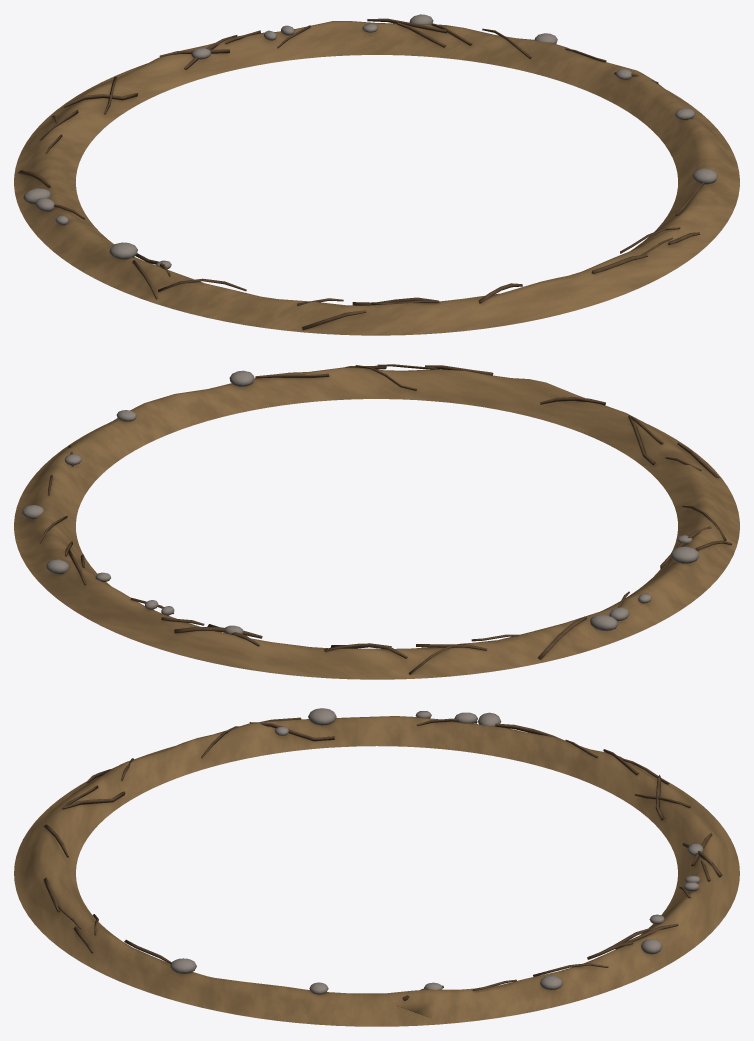
File: creature_nest_ring.glb
3 renders of one model, top to bottom at view 1: azimuth 30°, elevation 25°; view 2: azimuth 150°, elevation 25°; view 3: azimuth 270°, elevation 25°, orthographic.
Visible parts, largest first — view 1: CreatureNestRing; view 2: CreatureNestRing; view 3: CreatureNestRing.
Part boxes in pixels (left/top/right/bottom): CreatureNestRing: left=14, top=14, right=739, bottom=335; CreatureNestRing: left=14, top=364, right=739, bottom=679; CreatureNestRing: left=14, top=708, right=739, bottom=1026.
Size of the model in its own units: 12.9 by 0.5214 by 12.9.
3 materials, 3 textured.
